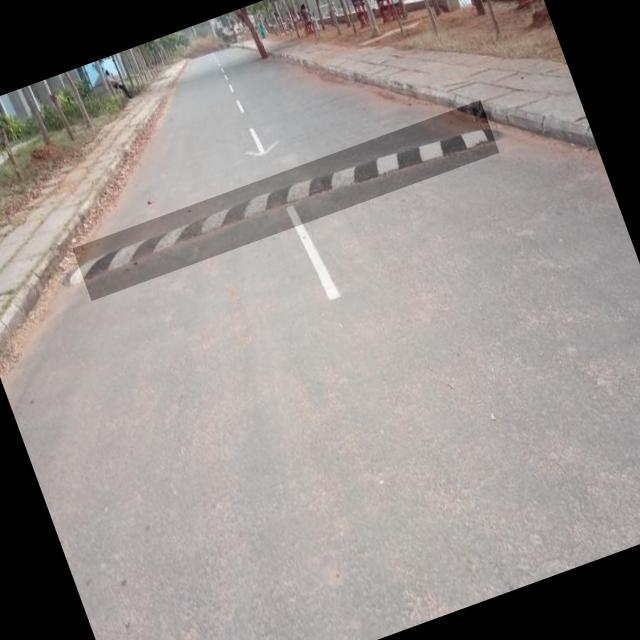bump: (72, 100, 500, 301)
